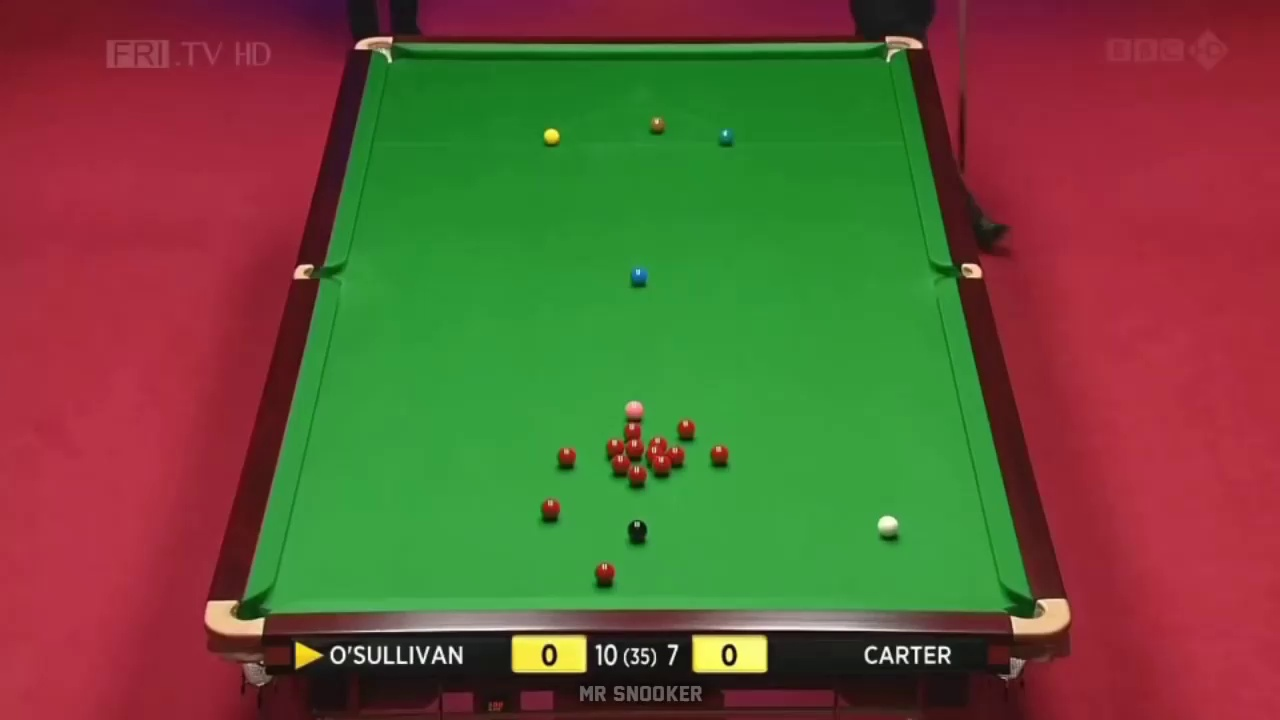ball: (875, 515, 903, 538), (590, 564, 620, 585), (628, 518, 648, 544), (540, 497, 563, 519), (708, 446, 730, 468), (626, 467, 649, 487), (674, 419, 696, 439), (624, 399, 645, 419), (654, 452, 673, 474), (541, 126, 561, 146), (626, 438, 644, 457), (559, 446, 576, 465), (715, 128, 733, 144), (630, 270, 648, 286), (649, 116, 665, 132)
